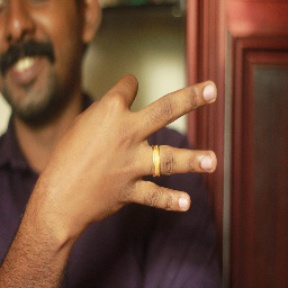K: (52, 69, 223, 223)
